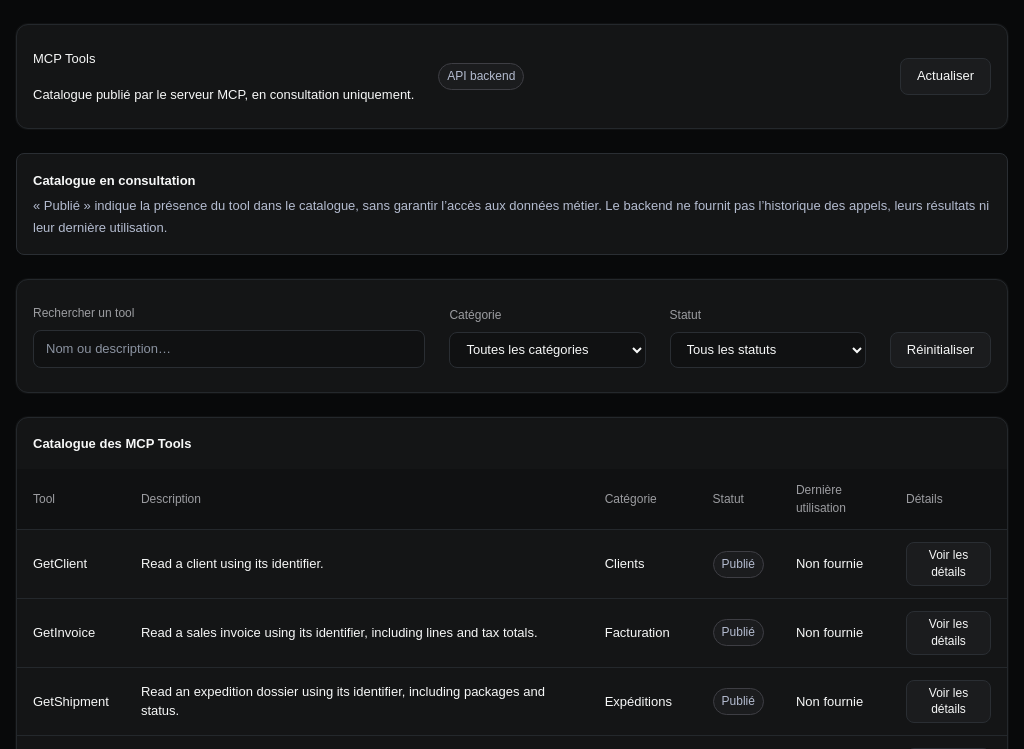
connected MCP catalogue › renders actual schemas and unavailable telemetry without any business execution
Click the button named "Voir GetShipment".
click(948, 701)  # box [906,680,991,723]
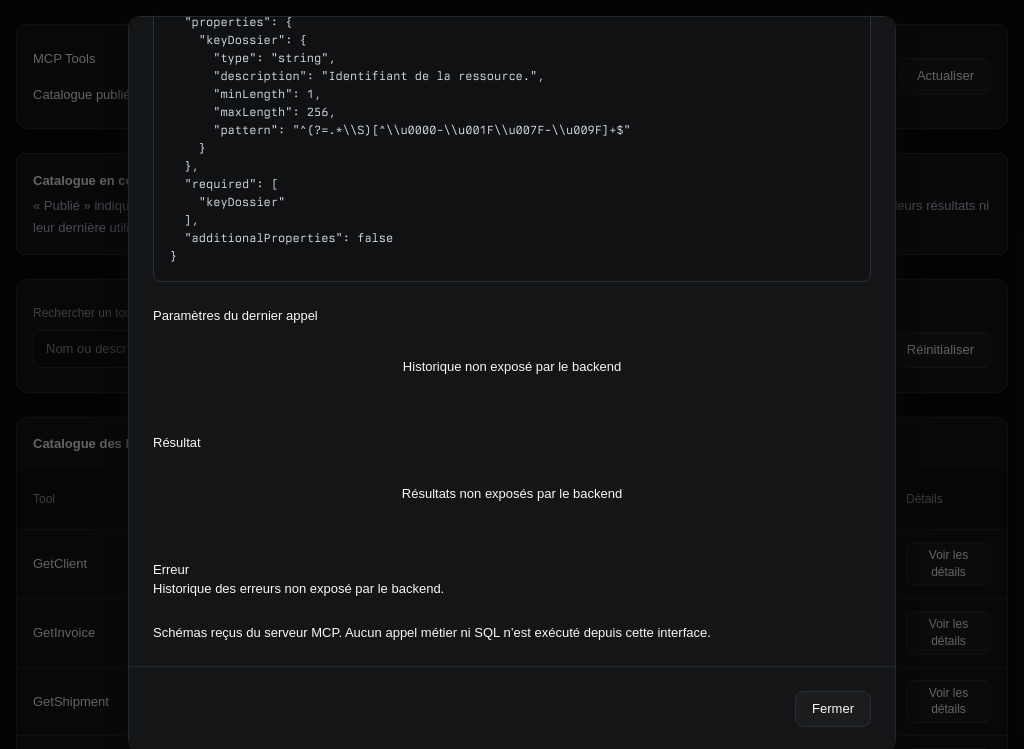
Expected: the text "Historique non exposé par le backend" is shown, [403,357,621,377]
Expected: the text "Résultats non exposés par le backend" is shown, [402,484,622,504]
